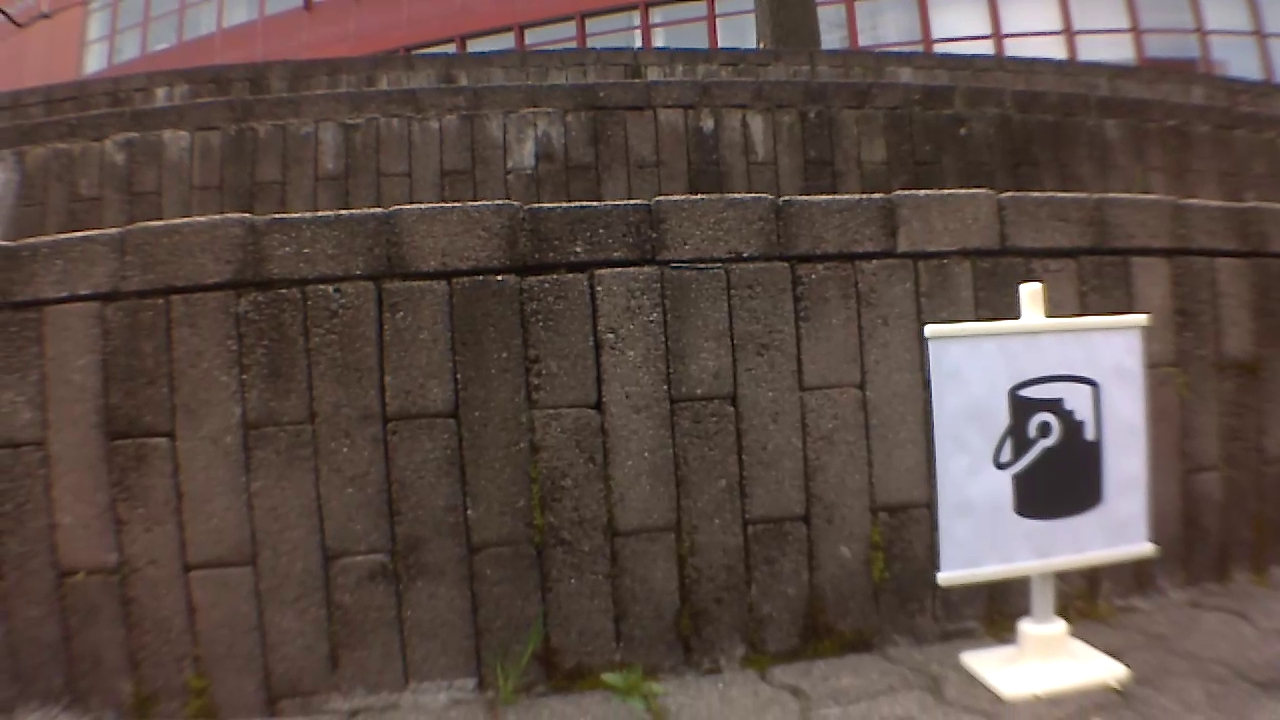bucket: (992, 370, 1110, 529)
